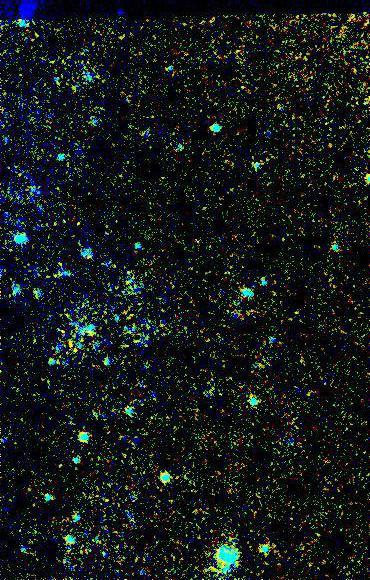star: (74, 323, 104, 353)
